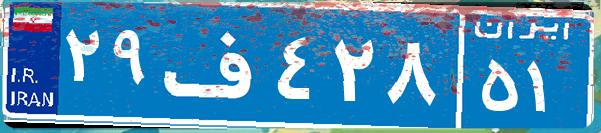1: (525, 38, 570, 115)
2: (330, 28, 385, 110), (57, 26, 110, 107)
4: (273, 28, 330, 110)
5: (475, 38, 525, 113)
8: (385, 28, 445, 110)
9: (110, 28, 158, 105)
ف: (158, 15, 273, 115)
